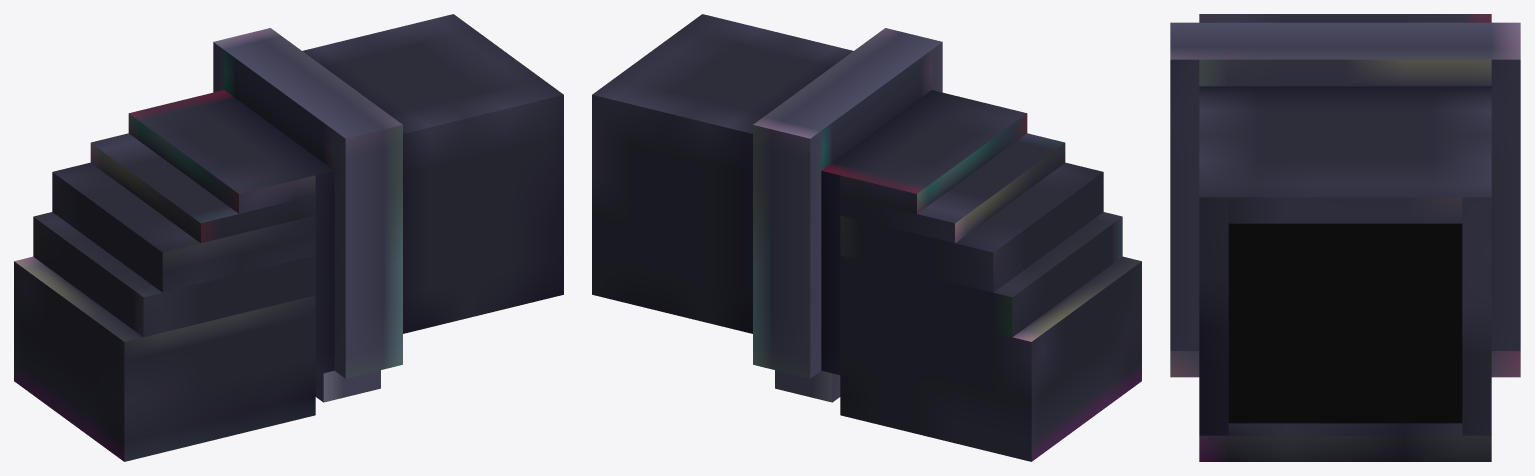
Rendered from Vent_Module_F_00.fbx.
The picture shows the model from 3 angles, left to right: view 1: azimuth 30°, elevation 25°; view 2: azimuth 150°, elevation 25°; view 3: azimuth 270°, elevation 25°; orthographic projection. The views are drawn at different scales.
Visible parts, largest first — view 1: Vent_Module_F_00; view 2: Vent_Module_F_00; view 3: Vent_Module_F_00.
Boxes of the visible parts, bbox=[...] form: Vent_Module_F_00: bbox=[14, 14, 563, 461]; Vent_Module_F_00: bbox=[592, 14, 1141, 461]; Vent_Module_F_00: bbox=[1170, 14, 1520, 461].
Bounding box in the file's own units: 115 × 70 × 60.
